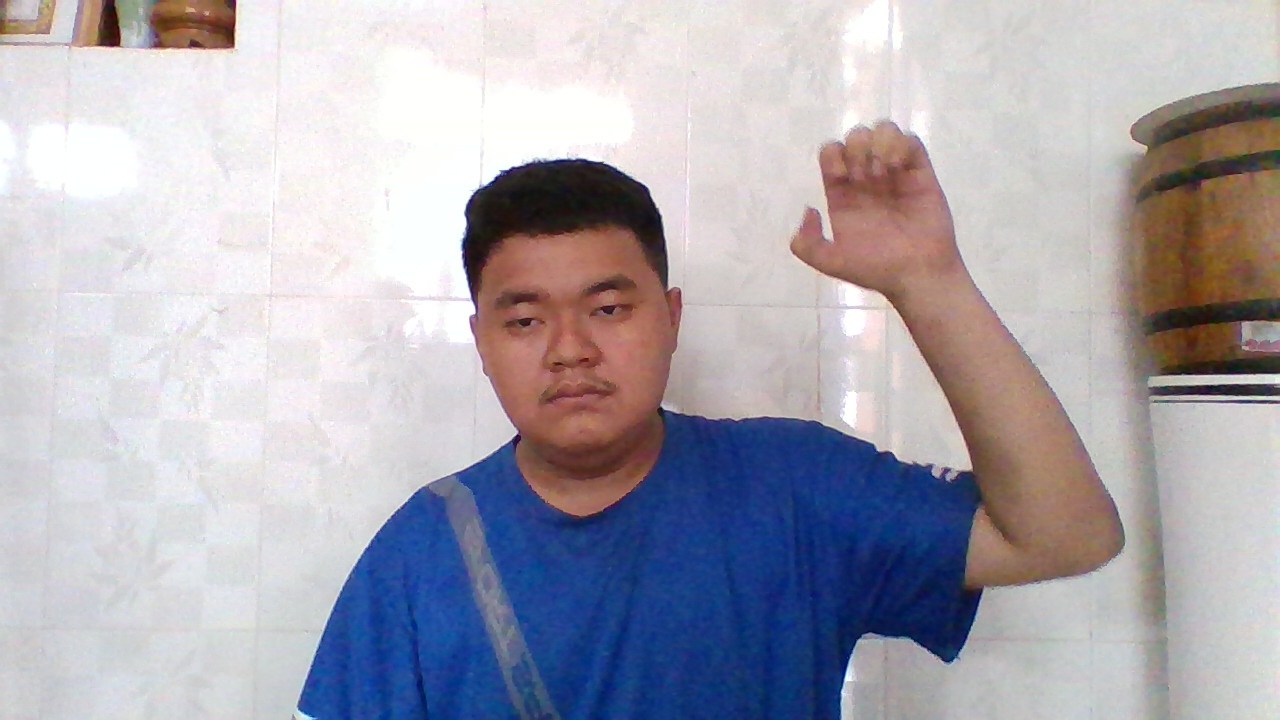E: (783, 112, 936, 291)
